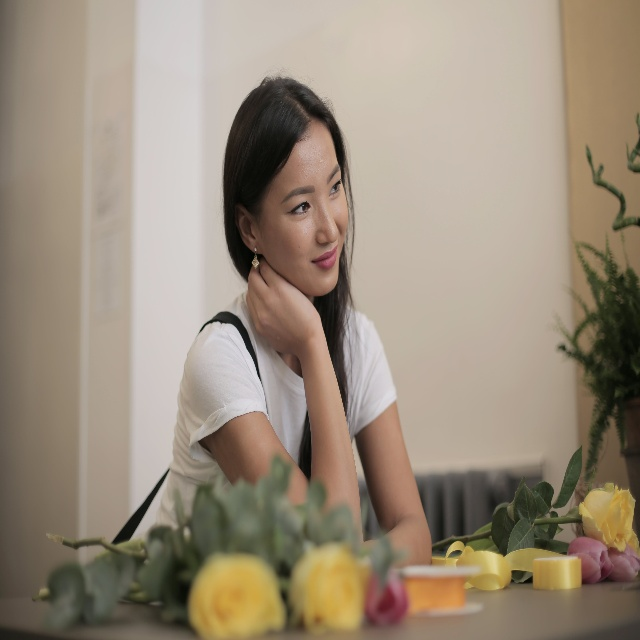Sin_guantes: (245, 257, 322, 356)
